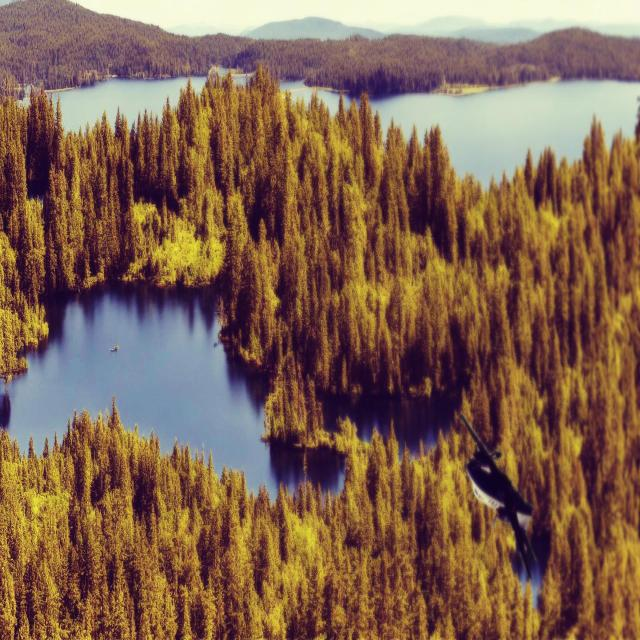airplane: (459, 411, 537, 580)
